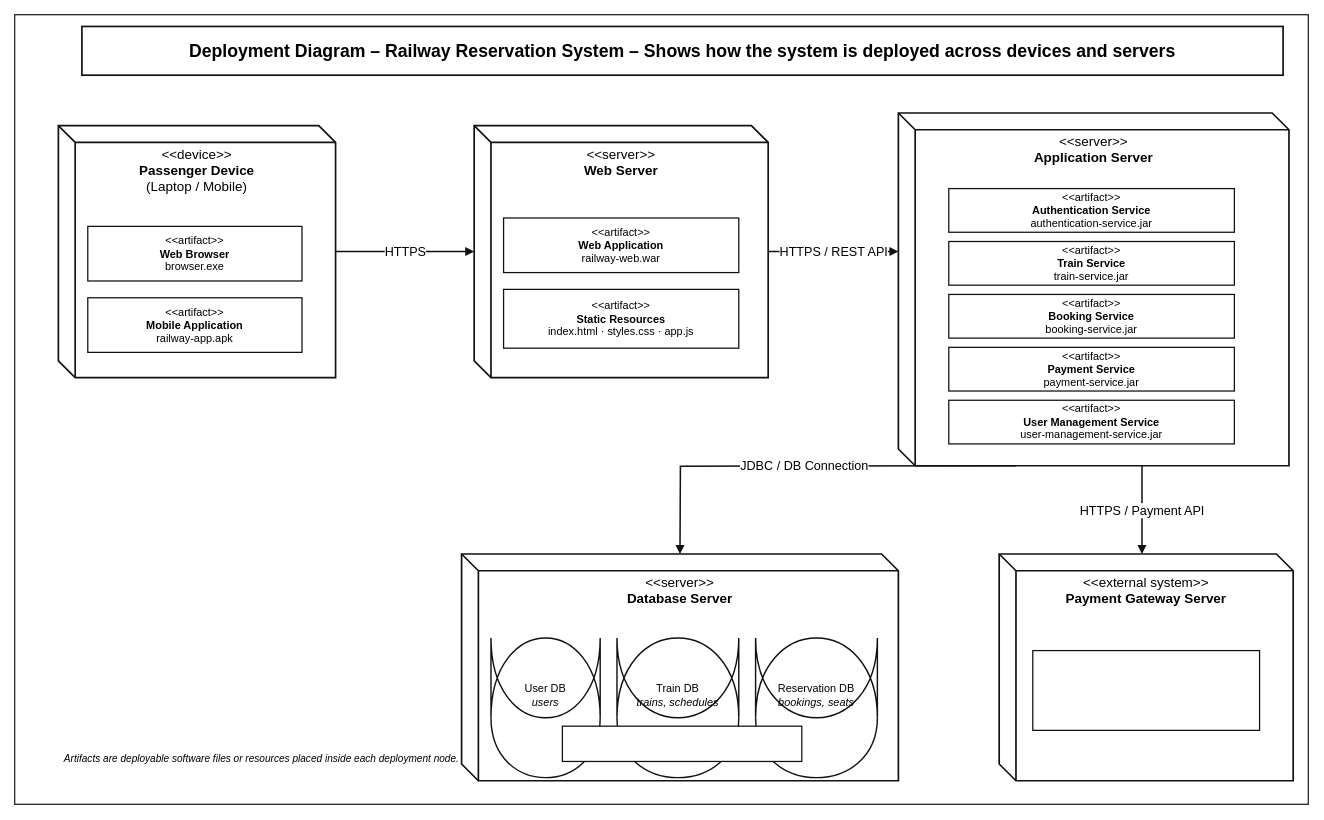
Image size: 1324x820. Some labels were removed from this diagram. The centre of each missing label's shape, as x and y in pixels:
"<<artifact>> Bank / UPI / Card Provider payment-gateway-adapter" belongs at [1146,690].
"<<artifact>> schema.sql Database schemas & tables" belongs at [681,743].
